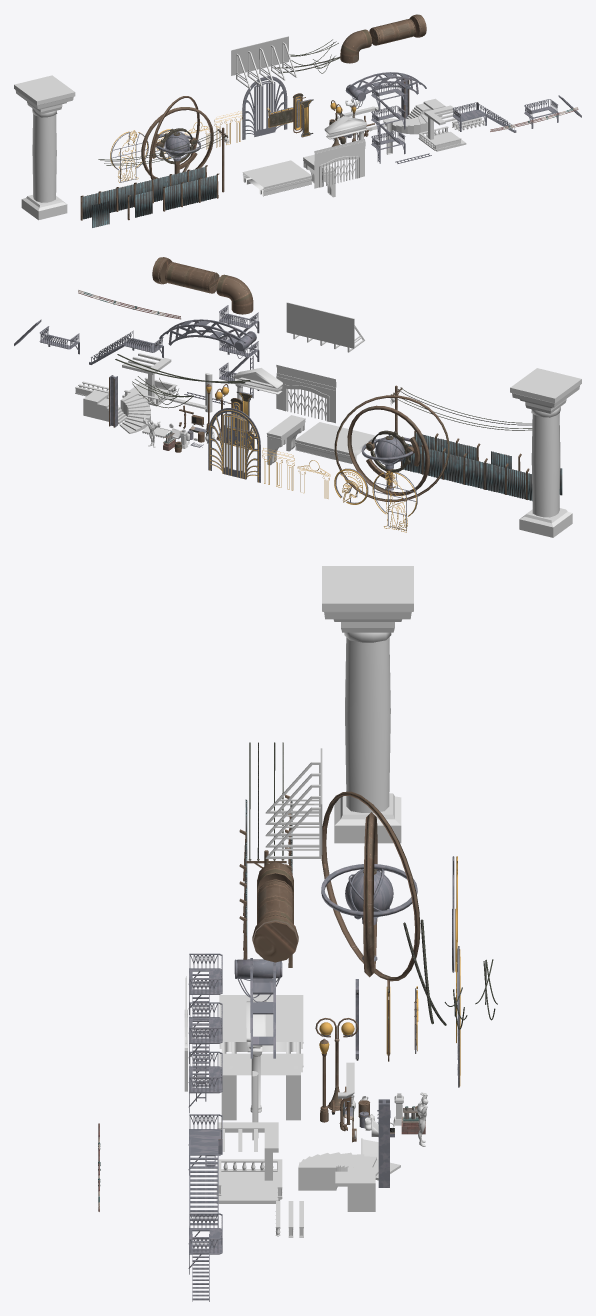
Rendered from DecorationSet.fbx.
The picture shows the model from 3 angles, top to bottom: view 1: azimuth 30°, elevation 25°; view 2: azimuth 150°, elevation 25°; view 3: azimuth 270°, elevation 25°; orthographic projection. The views are drawn at different scales.
Parts seen in each view (by area): view 1: BigPillar, Planet_Pole.001, Fence, AD_Big.001, Gate.002, MegaBuilding_ArtDecoGate.003, Bridge_small_mid.002, FireLadder.006, FenceShort, Balcony.001, BigTube.027, MetalConstruct_curved.005 (+16 smaller); view 2: BigPillar, Planet_Pole.001, Fence, MegaBuilding_ArtDecoGate.003, AD_Big.001, Gate.002, Bridge_small_mid.002, Balcony.001, FireLadder.006, MetalConstruct_curved.005, BigTube.027, Bridge_small_start.003 (+16 smaller); view 3: BigPillar, Planet_Pole.001, FireLadder.006, Balcony.001, Bridge_small_mid.002, Bridge_small_start.003, AD_Big.001, HouseFacade.003, CurveSteps.002, BigTube Connector.015, Steps02, MetalConstruct_curved.005 (+5 smaller).
Part boxes in pixels (x1,y1,x2,y2): BigPillar: (14,75,75,220); Planet_Pole.001: (141,96,213,179); Fence: (80,165,207,220); AD_Big.001: (231,36,297,89); Gate.002: (314,139,365,188); MegaBuilding_ArtDecoGate.003: (242,76,287,139); Bridge_small_mid.002: (242,160,311,196); FireLadder.006: (371,81,405,163); FenceShort: (163,173,219,211); Balcony.001: (418,105,466,151); BigTube.027: (369,19,415,45); MetalConstruct_curved.005: (347,72,426,99); BigPillar: (510,368,581,537); Planet_Pole.001: (334,395,449,501); Fence: (400,443,532,500); MegaBuilding_ArtDecoGate.003: (208,408,260,482); AD_Big.001: (286,302,364,352); Gate.002: (276,365,336,423); Bridge_small_mid.002: (295,422,376,463); Balcony.001: (122,353,177,406); FireLadder.006: (219,305,259,400); MetalConstruct_curved.005: (159,319,252,347); BigTube.027: (165,262,219,293); Bridge_small_start.003: (266,415,305,465); BigPillar: (322,566,413,843); Planet_Pole.001: (321,791,420,981); FireLadder.006: (188,953,222,1113); Balcony.001: (216,1122,282,1203); Bridge_small_mid.002: (219,995,303,1053); Bridge_small_start.003: (219,1053,303,1120); AD_Big.001: (265,748,322,858); HouseFacade.003: (188,1114,222,1227); CurveSteps.002: (298,1152,400,1190); BigTube Connector.015: (252,915,298,962); Steps02: (335,1167,375,1211); MetalConstruct_curved.005: (250,958,275,1058).
Bounding box in the file's own units: 8471 × 2336 × 2864.
